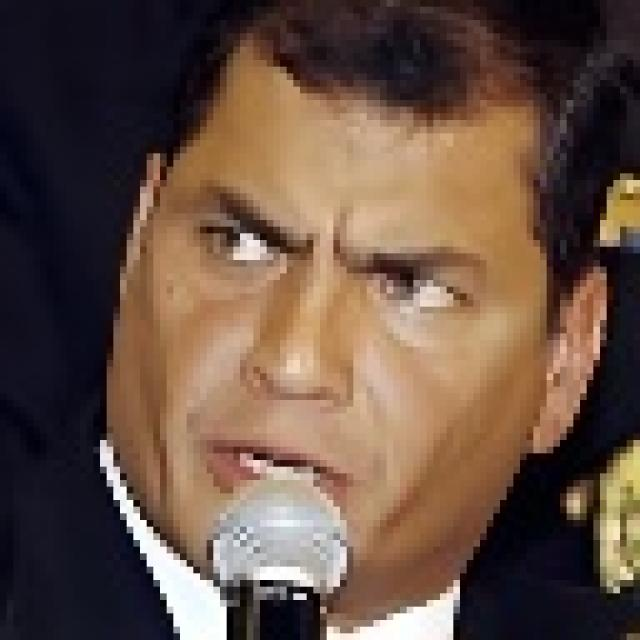angry: (113, 31, 526, 619)
